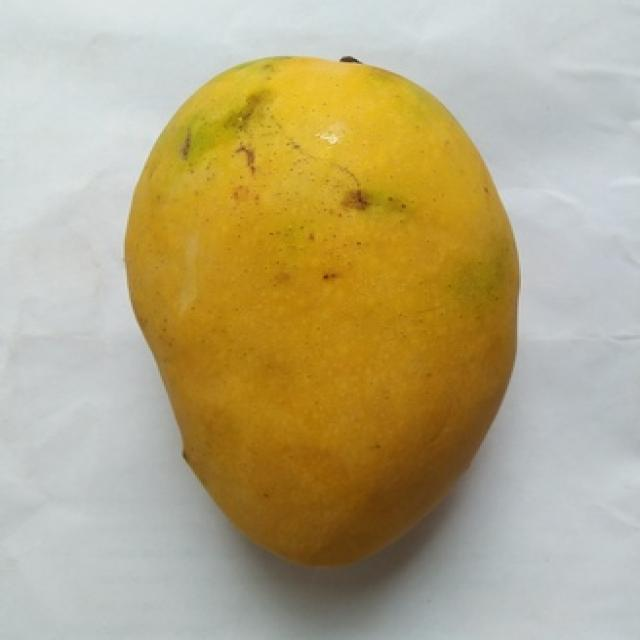Mango: (127, 57, 515, 563)
